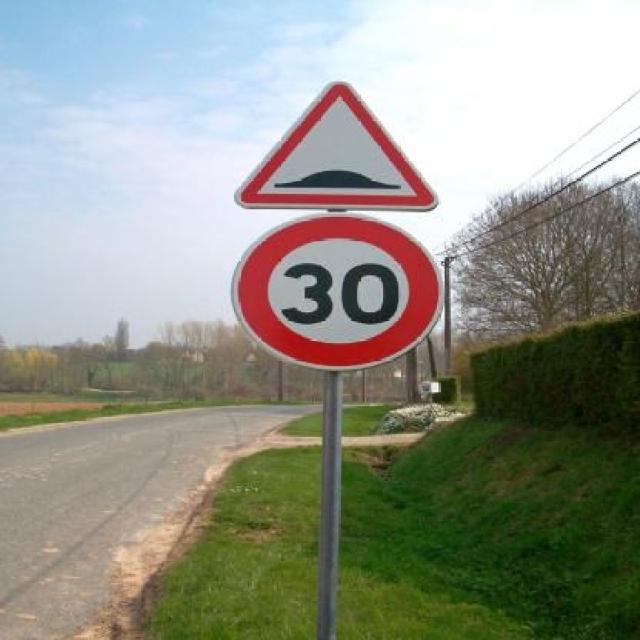forb_speed_over_30: (233, 212, 442, 370)
